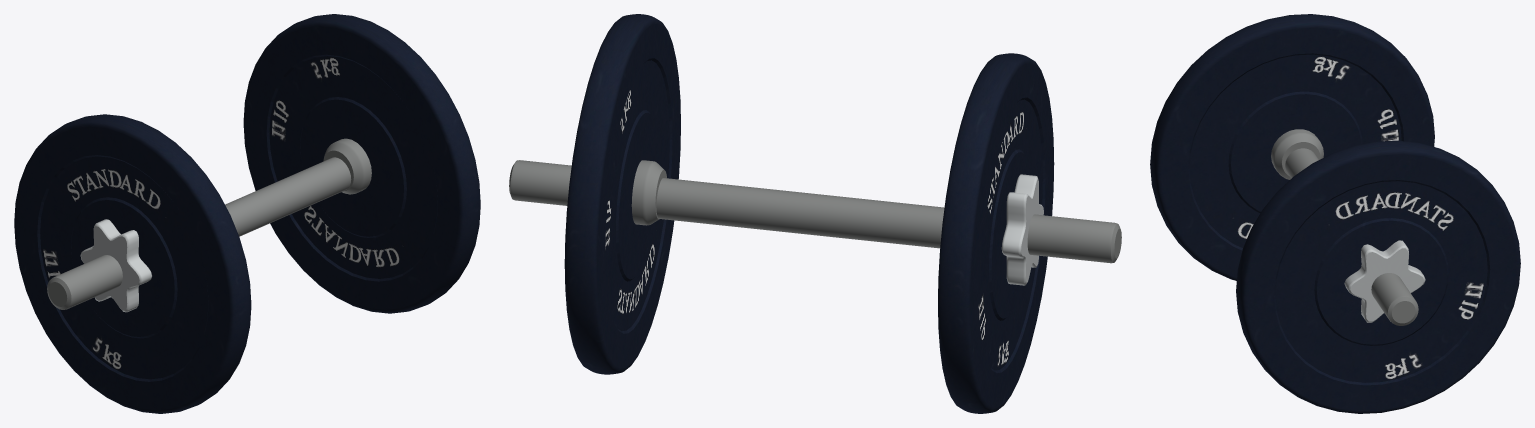
File: Dumbell.001.glb
The picture shows the model from 3 angles, left to right: view 1: azimuth 30°, elevation 25°; view 2: azimuth 150°, elevation 25°; view 3: azimuth 270°, elevation 25°; orthographic projection. The views are drawn at different scales.
Visible parts, largest first — view 1: defaultMaterial.018, defaultMaterial.016, defaultMaterial.017; view 2: defaultMaterial.018, defaultMaterial.016, defaultMaterial.017; view 3: defaultMaterial.018, defaultMaterial.016, defaultMaterial.017.
Boxes of the visible parts, x1=… form: defaultMaterial.018: x1=14, y1=14, x2=480, y2=413; defaultMaterial.016: x1=47, y1=138, x2=371, y2=309; defaultMaterial.017: x1=80, y1=219, x2=151, y2=312; defaultMaterial.018: x1=564, y1=14, x2=1054, y2=413; defaultMaterial.016: x1=509, y1=160, x2=1121, y2=263; defaultMaterial.017: x1=1001, y1=174, x2=1043, y2=285; defaultMaterial.018: x1=1150, y1=14, x2=1520, y2=413; defaultMaterial.016: x1=1271, y1=129, x2=1418, y2=325; defaultMaterial.017: x1=1344, y1=240, x2=1425, y2=322.
Bounding box in the file's own units: 0.4874 × 0.2905 × 0.3668.
Materials: 3 (3 with a texture image).
